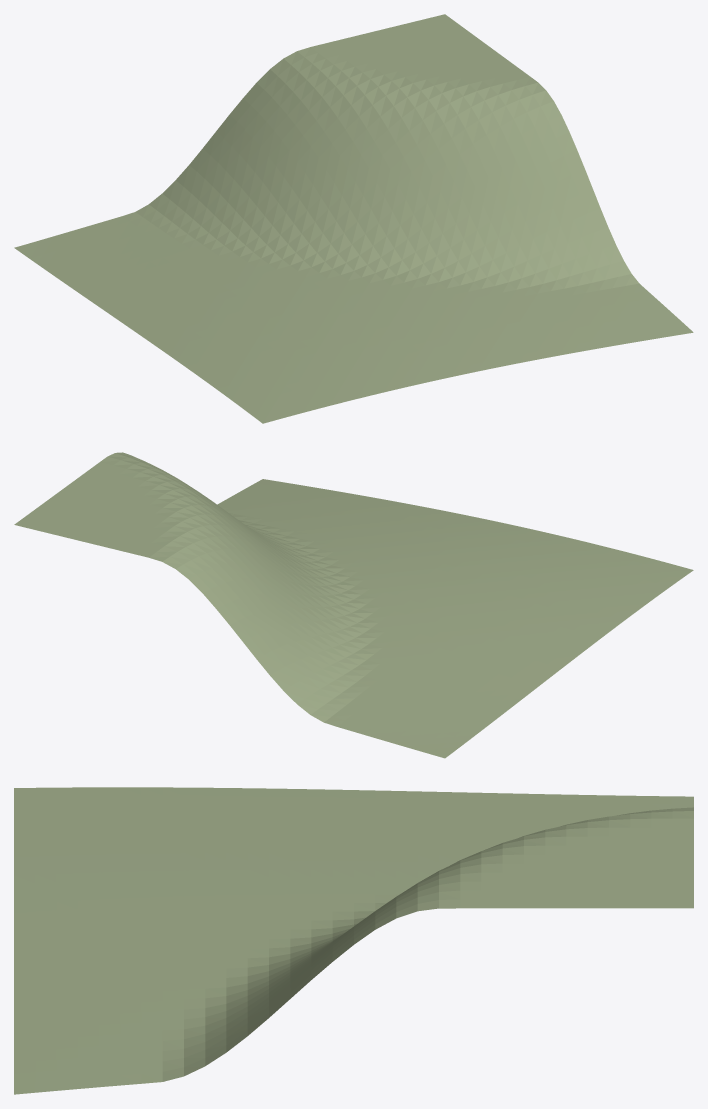
File: alpine-2-11.glb
The picture shows the model from 3 angles, top to bottom: view 1: azimuth 30°, elevation 25°; view 2: azimuth 150°, elevation 25°; view 3: azimuth 270°, elevation 25°; orthographic projection. The views are drawn at different scales.
Visible parts, largest first — view 1: alpine-2-11; view 2: alpine-2-11; view 3: alpine-2-11.
Boxes of the visible parts, bbox=[...] form: alpine-2-11: bbox=[14, 14, 693, 423]; alpine-2-11: bbox=[14, 452, 693, 758]; alpine-2-11: bbox=[14, 787, 693, 1094].
Size of the model in its own units: 256 by 77.34 by 256.
